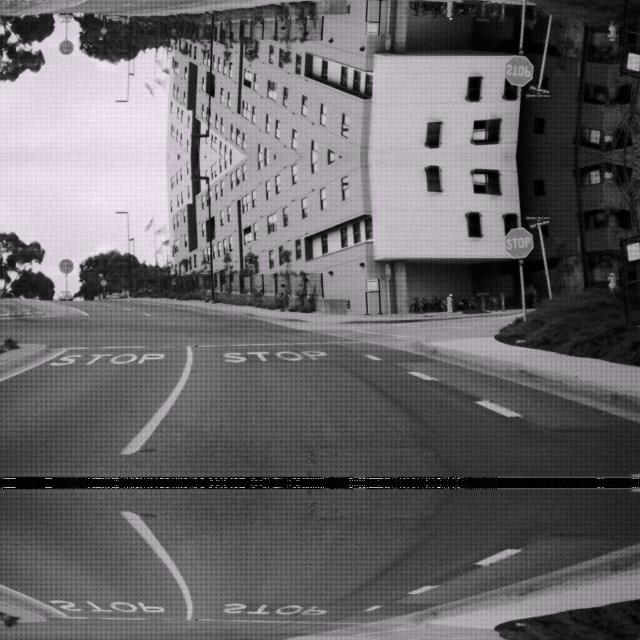stop: (503, 226, 533, 256), (503, 56, 533, 86)
